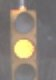Yellow: (5, 7, 41, 80)
